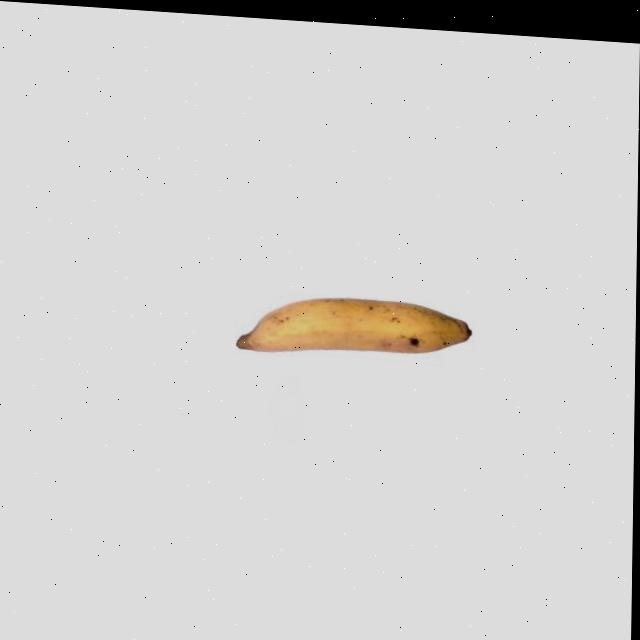banana: (231, 287, 477, 368)
